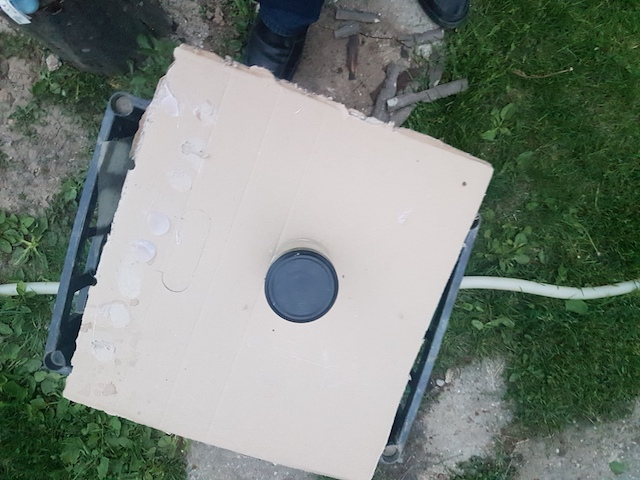recipient: (264, 250, 342, 326)
